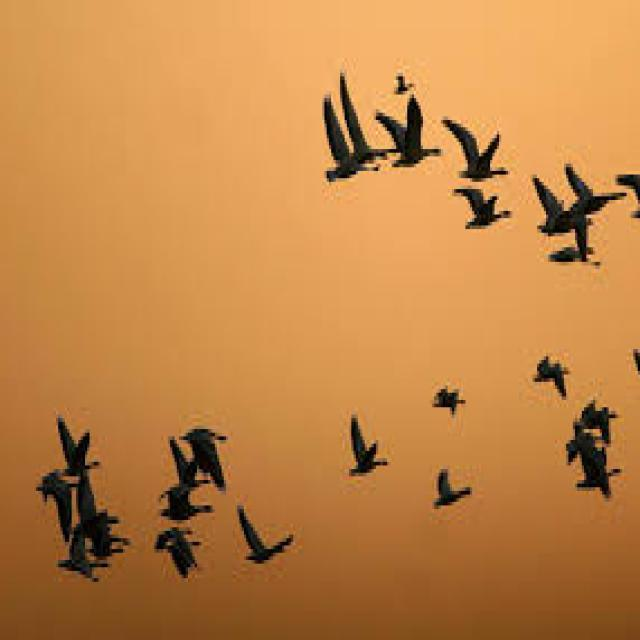bird: (306, 96, 382, 206), (232, 502, 316, 600), (526, 186, 604, 276), (431, 98, 518, 178), (164, 386, 248, 466), (340, 391, 398, 500), (37, 487, 133, 549), (554, 148, 624, 228), (51, 395, 116, 478), (427, 444, 488, 532), (387, 95, 445, 178), (156, 474, 230, 536), (562, 380, 626, 449), (453, 180, 520, 242), (63, 546, 124, 608), (526, 338, 586, 393), (562, 458, 628, 506), (418, 367, 474, 418), (156, 524, 204, 578), (391, 64, 427, 101)
